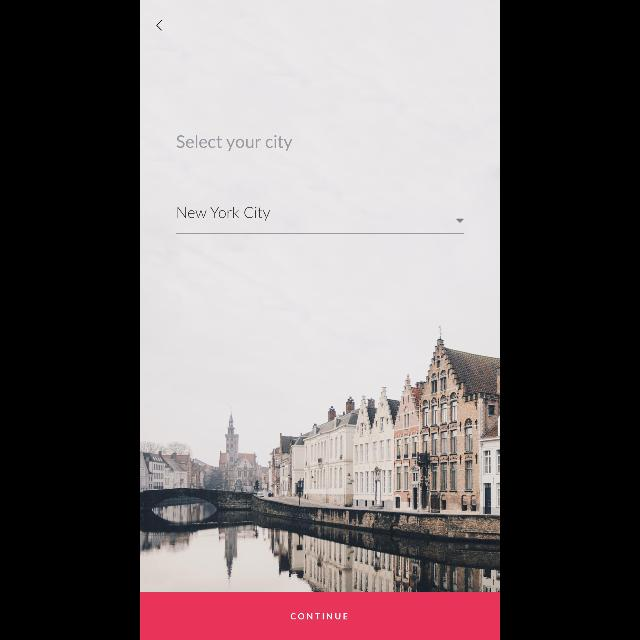backgroundimage: (140, 1, 500, 592)
icon: (157, 20, 163, 32), (456, 219, 464, 223)
text: (177, 135, 293, 151), (178, 207, 270, 221)
textbutton: (140, 592, 500, 640)
